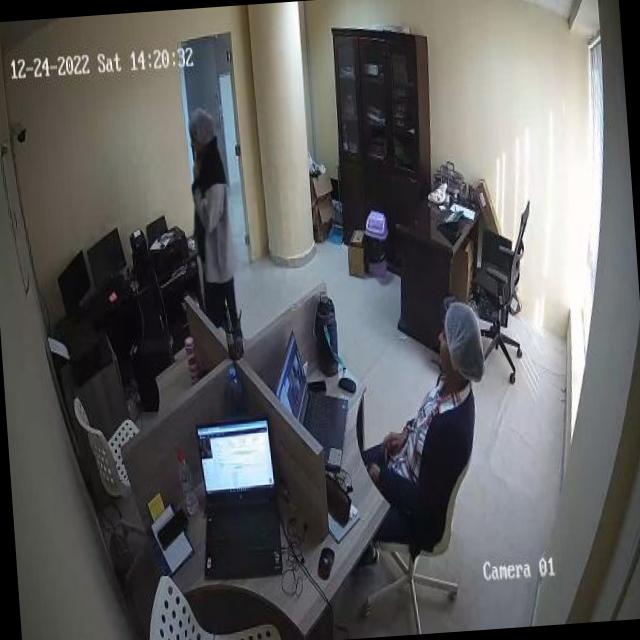hairnet: (442, 302, 488, 384), (192, 105, 217, 140)
